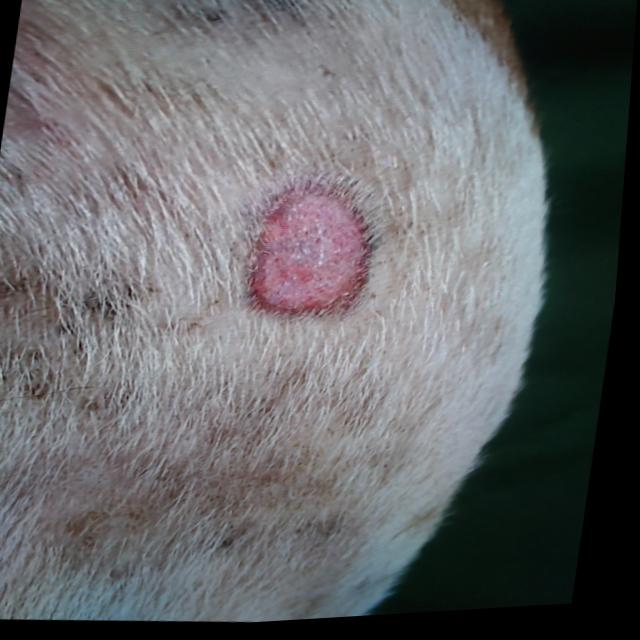ringworm: (207, 171, 419, 342)
